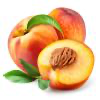Peach leaf: (27, 14, 65, 39), (2, 70, 38, 85), (18, 57, 40, 76), (38, 78, 50, 92)
